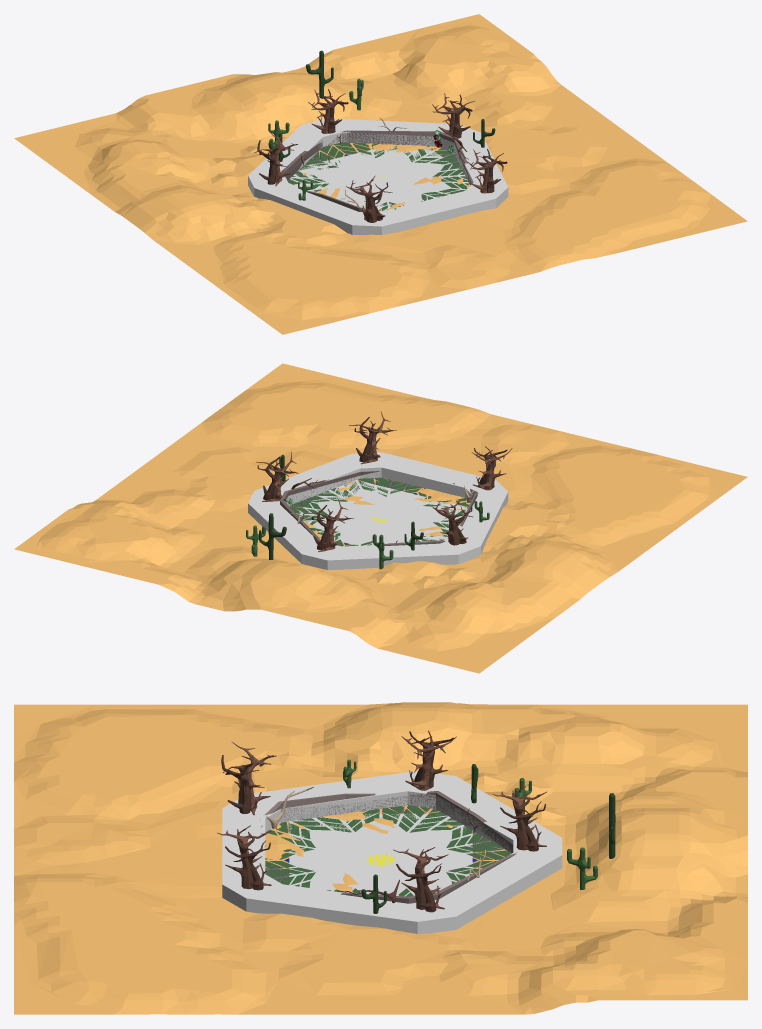
File: AGardenerForBawe_FBX.fbx
3 views of the same model, one above another, from view 1: azimuth 30°, elevation 25°; view 2: azimuth 150°, elevation 25°; view 3: azimuth 270°, elevation 25° (orthographic). The views are drawn at different scales.
Parts seen in each view (by area): view 1: Dunes, Thiccagon, BaseArenaSize, Seedling_Level, Tiles, Stage_Walls, Cactus_Level, Sand_Inner; view 2: Dunes, Thiccagon, BaseArenaSize, Seedling_Level, Tiles, Cactus_Level, Stage_Walls, Sand_Inner; view 3: Dunes, Thiccagon, BaseArenaSize, Seedling_Level, Tiles, Stage_Walls, Cactus_Level, Sand_Inner, Roots.
Boxes of the visible parts, x1,y1,x2,y2 form: Dunes: (14, 14, 747, 334); Thiccagon: (248, 118, 508, 235); BaseArenaSize: (290, 146, 468, 210); Seedling_Level: (254, 89, 507, 222); Tiles: (287, 142, 469, 210); Stage_Walls: (281, 130, 472, 211); Cactus_Level: (268, 50, 495, 200); Sand_Inner: (289, 143, 470, 211); Dunes: (14, 363, 747, 673); Thiccagon: (248, 452, 508, 570); BaseArenaSize: (296, 480, 467, 545); Seedling_Level: (256, 411, 512, 551); Tiles: (289, 477, 469, 546); Cactus_Level: (246, 454, 489, 569); Stage_Walls: (280, 471, 477, 545); Sand_Inner: (289, 478, 470, 546); Dunes: (14, 702, 747, 1014); Thiccagon: (222, 771, 562, 933); BaseArenaSize: (289, 813, 472, 896); Seedling_Level: (217, 730, 546, 912); Tiles: (265, 805, 511, 896); Stage_Walls: (264, 791, 515, 903); Cactus_Level: (343, 759, 615, 913); Sand_Inner: (265, 805, 506, 892); Roots: (260, 786, 516, 903).
Size of the model in its own units: 400 by 400 by 58.71.
